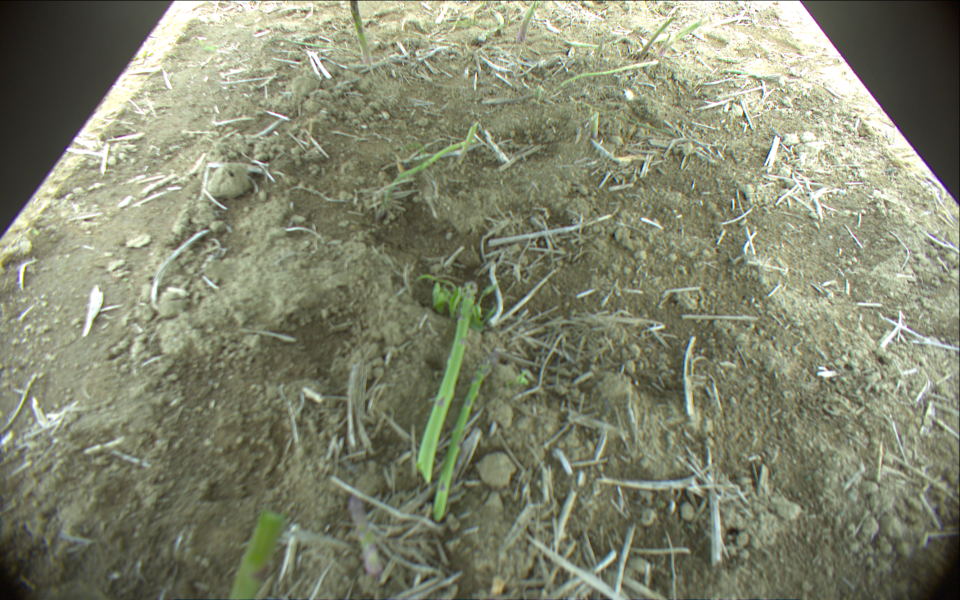aspa: (410, 282, 473, 480), (431, 361, 491, 524), (229, 507, 289, 600), (383, 140, 476, 185), (551, 58, 659, 94), (347, 496, 383, 581), (635, 10, 678, 58), (347, 1, 376, 67), (455, 125, 483, 168), (517, 1, 536, 42)
